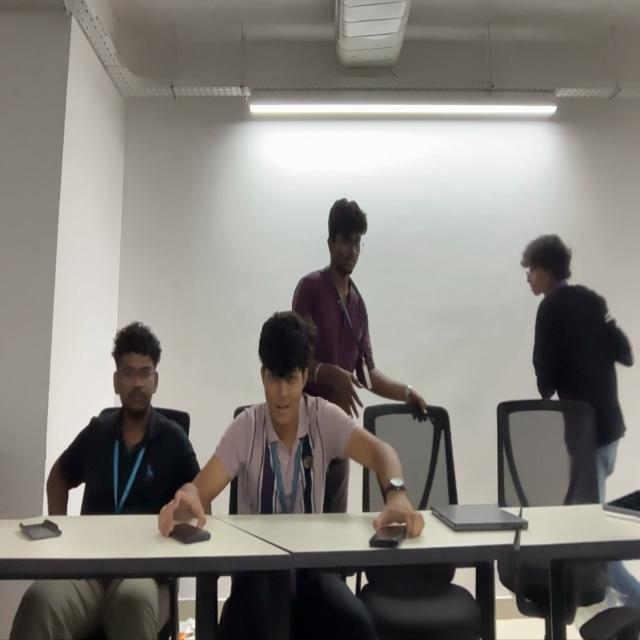Isolated: (517, 222, 632, 500), (46, 331, 192, 475)
socializing: (216, 198, 426, 520)
